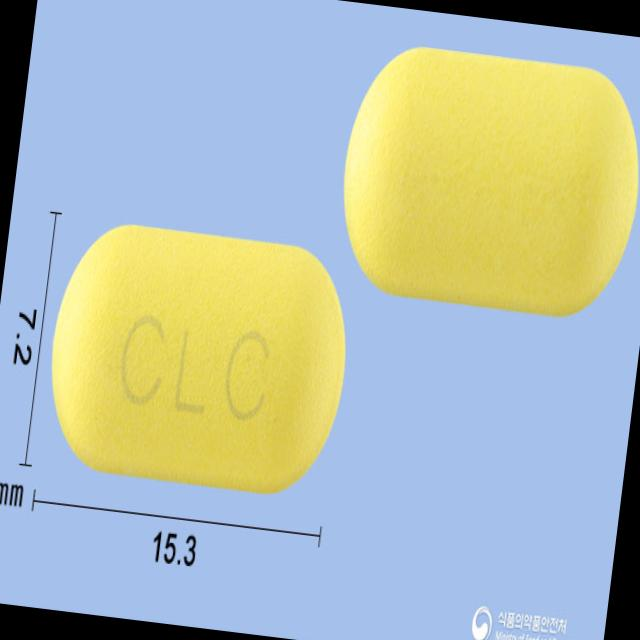Claric - 500mg: (33, 207, 364, 509)
